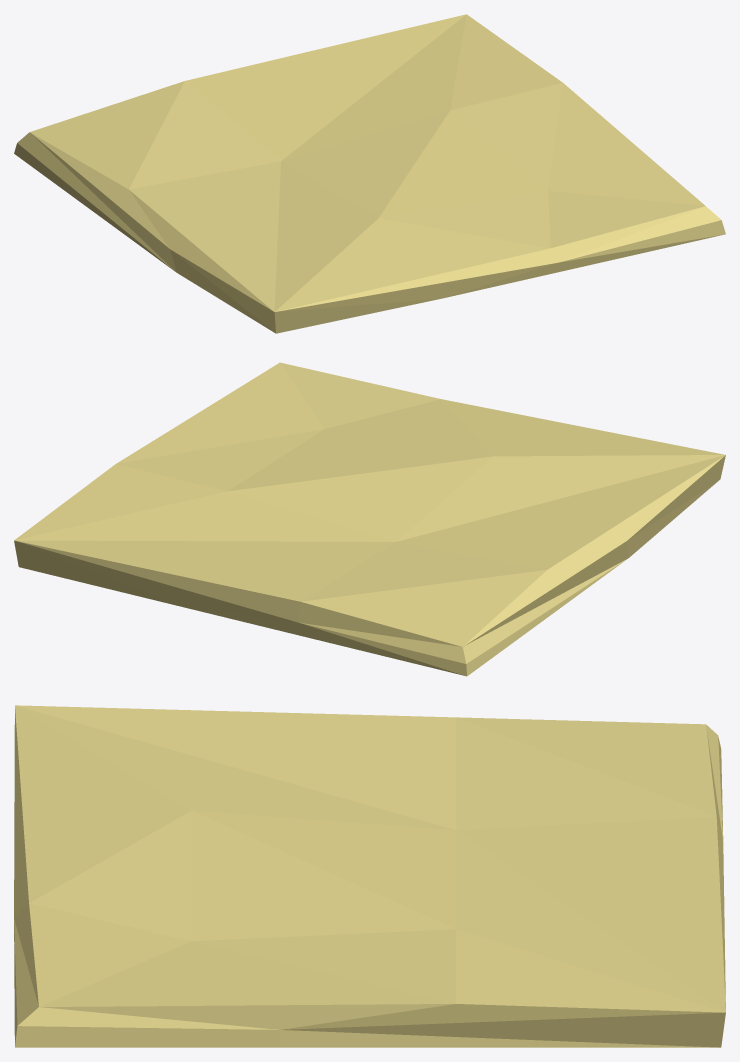
File: american.fbx
3 views of the same model, one above another, from view 1: azimuth 30°, elevation 25°; view 2: azimuth 150°, elevation 25°; view 3: azimuth 270°, elevation 25° (orthographic). The views are drawn at different scales.
Visible parts, largest first — view 1: American; view 2: American; view 3: American.
Part boxes in pixels (x1=…): American: x1=14, y1=14, x2=725, y2=333; American: x1=14, y1=362, x2=725, y2=676; American: x1=14, y1=705, x2=725, y2=1047.
Size of the model in its own units: 101 by 9.13 by 101.
